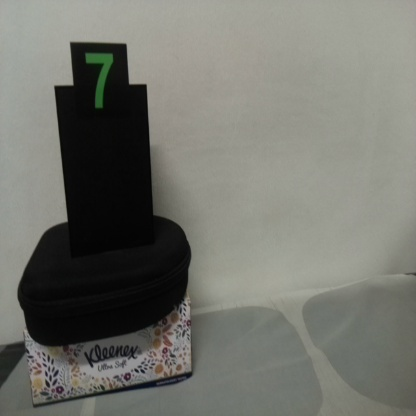id_7: (69, 43, 130, 129)
